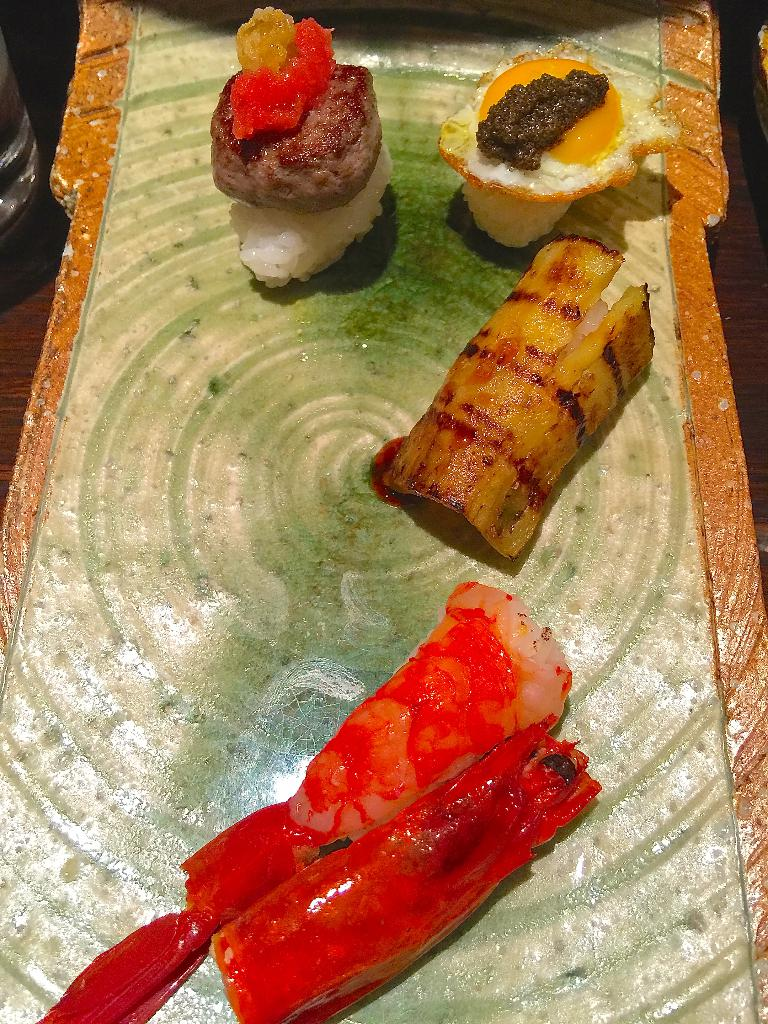sushi: (30, 581, 609, 1023), (374, 232, 667, 574), (196, 0, 406, 301), (434, 35, 675, 252)
